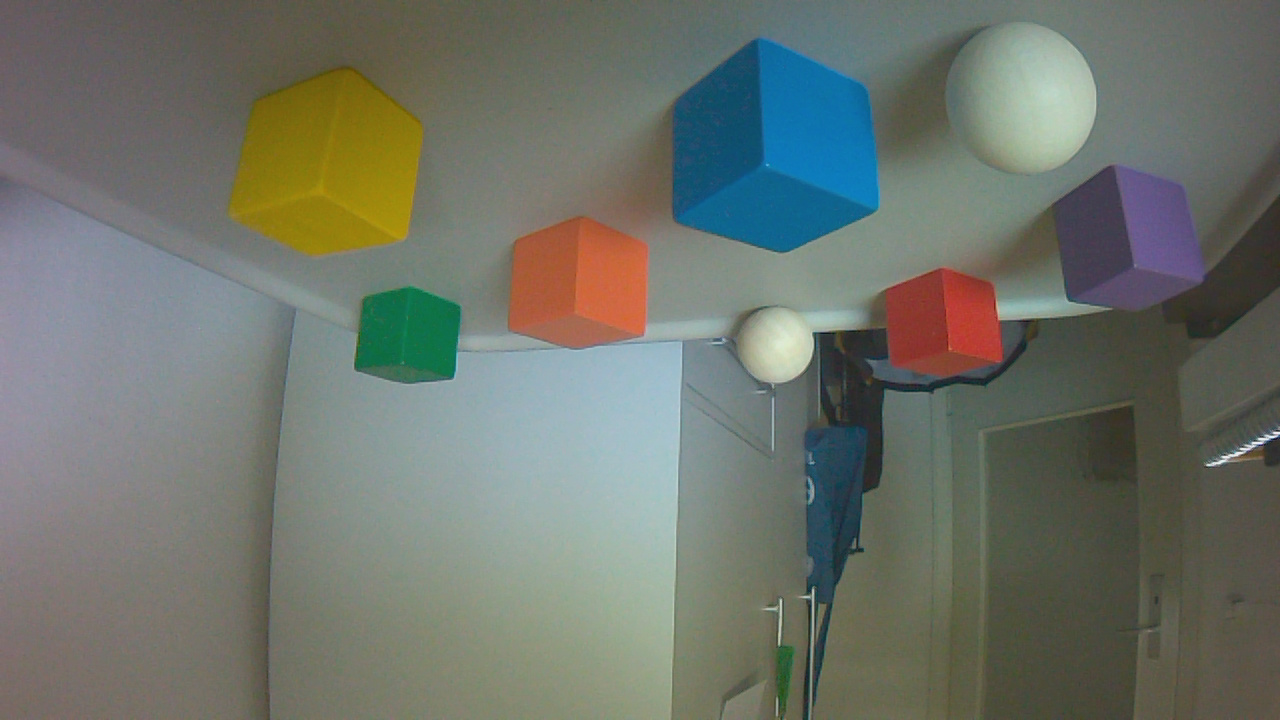ball: (945, 23, 1104, 183), (738, 308, 821, 392)
cube_blue: (672, 38, 887, 261)
cube_green: (356, 288, 470, 393)
cube_orange: (511, 217, 656, 359)
cube_purple: (1053, 167, 1210, 322)
cube_red: (885, 269, 1011, 386)
cube_yellow: (228, 70, 432, 266)
